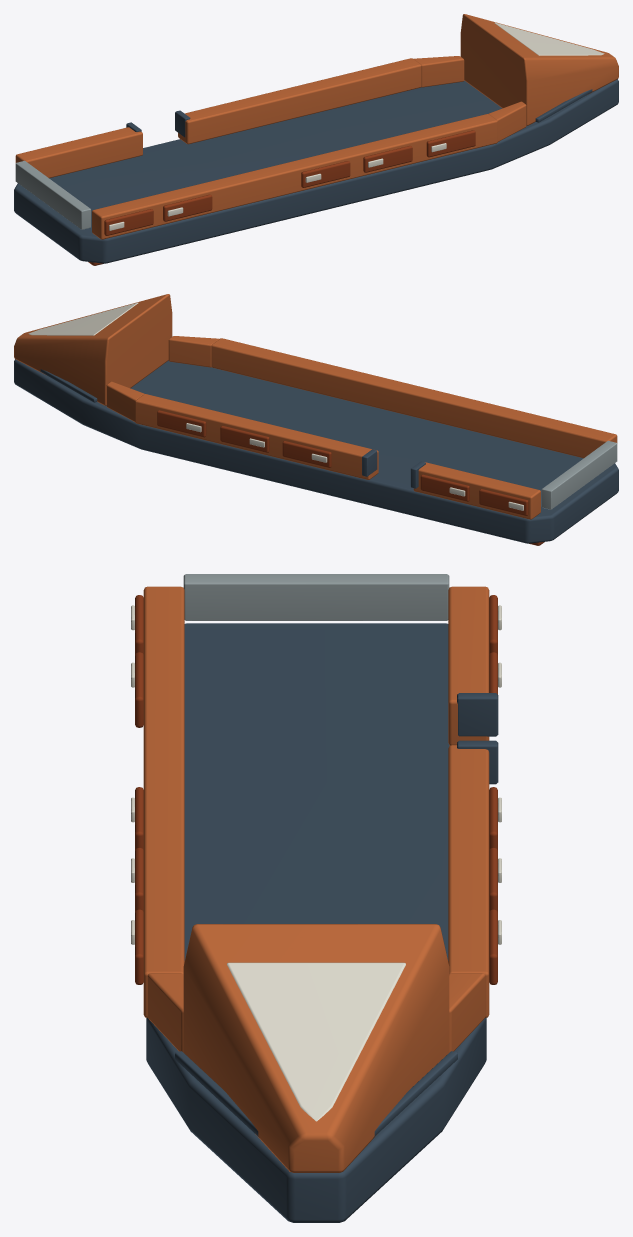
File: SM_SSTO_LowHull.fbx
3 renders of one model, top to bottom at view 1: azimuth 30°, elevation 25°; view 2: azimuth 150°, elevation 25°; view 3: azimuth 270°, elevation 25°, orthographic. The views are drawn at different scales.
Visible parts, largest first — view 1: SM_SSTO_LowHull; view 2: SM_SSTO_LowHull; view 3: SM_SSTO_LowHull.
Boxes of the visible parts, x1,y1,x2,y2 form: SM_SSTO_LowHull: (14,14,618,265); SM_SSTO_LowHull: (14,294,618,545); SM_SSTO_LowHull: (131,574,501,1222).
Size of the model in its own units: 2460 by 698 by 407.
